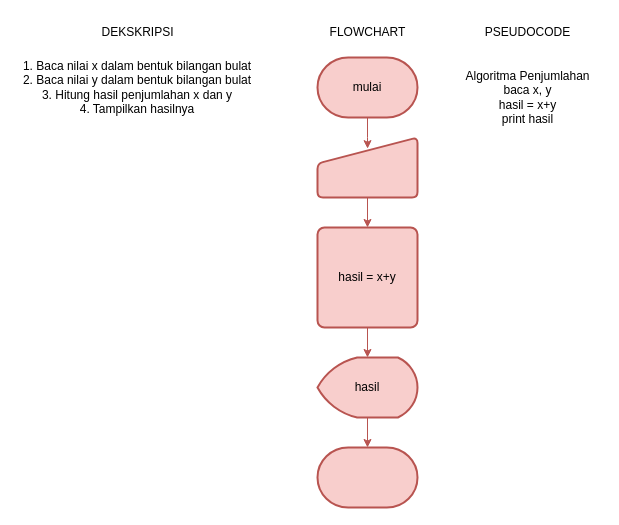
Image size: 619x525. Some labels were removed from this diagram. Here are the shapes that lost their labels. From the top down, the box of each, then its label:
(316, 136, 418, 198): x, y
(316, 446, 418, 508): selesai
